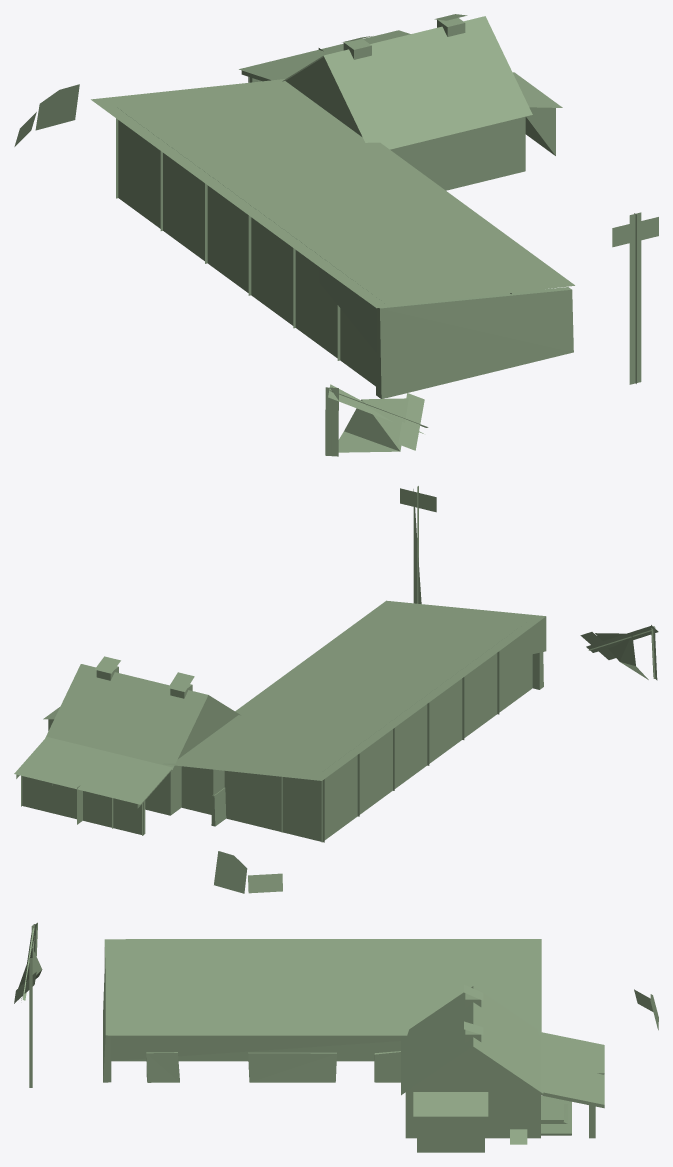
Rendered from stables_a-map.glb.
The picture shows the model from 3 angles, top to bottom: view 1: azimuth 30°, elevation 25°; view 2: azimuth 150°, elevation 25°; view 3: azimuth 270°, elevation 25°; orthographic projection. The views are drawn at different scales.
Visible parts, largest first — view 1: stables_a_hlod; view 2: stables_a_hlod; view 3: stables_a_hlod.
Part boxes in pixels (left/top/right/bottom): stables_a_hlod: left=14, top=14, right=658, bottom=456; stables_a_hlod: left=14, top=486, right=658, bottom=893; stables_a_hlod: left=14, top=922, right=658, bottom=1152.
Size of the model in its own units: 37.93 by 12.92 by 57.12.
